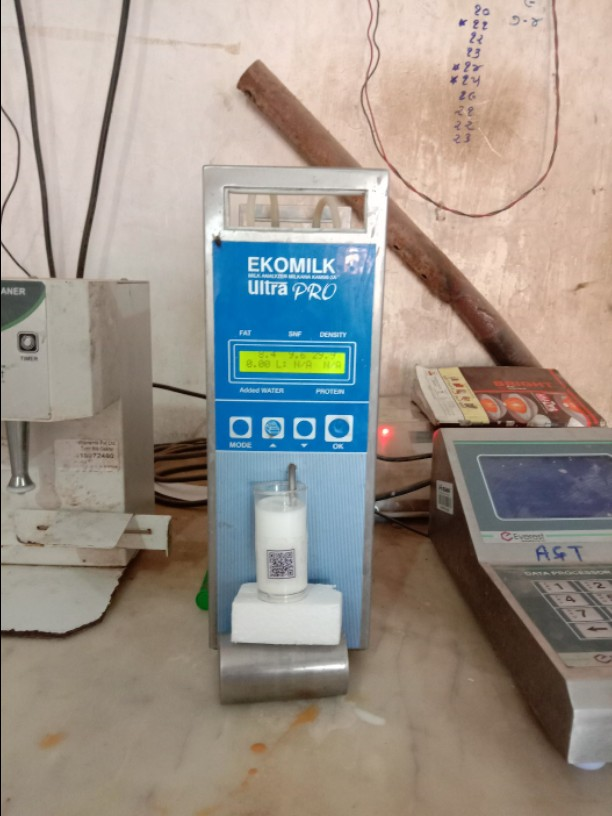lcd: (232, 345, 358, 376)
qr: (258, 546, 304, 587)
